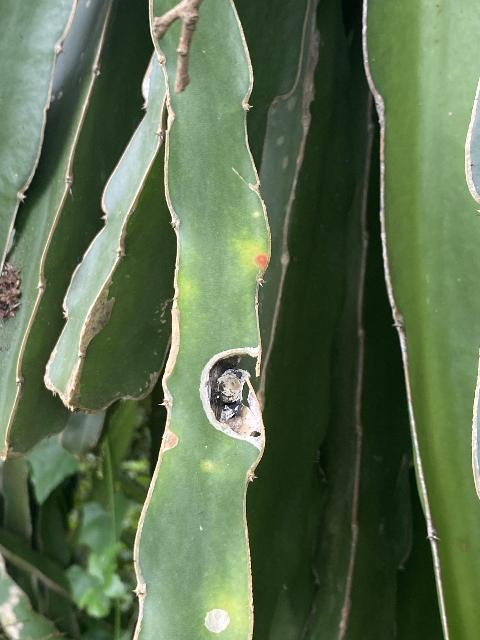stemcanker: (193, 343, 271, 444), (201, 601, 238, 640)
